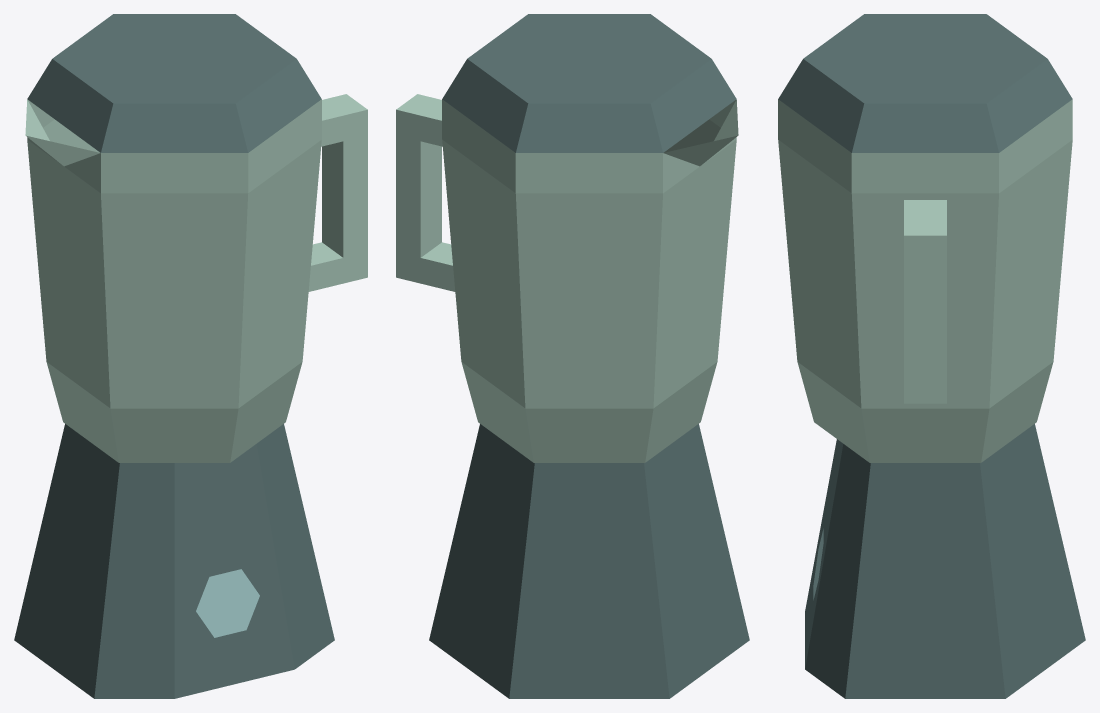
Rendered from kitchenBlender.glb.
3 renders of one model, left to right at view 1: azimuth 30°, elevation 25°; view 2: azimuth 150°, elevation 25°; view 3: azimuth 270°, elevation 25°, orthographic.
Visible parts, largest first — view 1: blenderCup, kitchenBlender, blenderTop; view 2: blenderCup, kitchenBlender, blenderTop; view 3: blenderCup, kitchenBlender, blenderTop.
Boxes of the visible parts, x1,y1,x2,y2 form: blenderCup: (25,94,367,462); kitchenBlender: (14,424,334,698); blenderTop: (27,14,321,152); blenderCup: (396,94,738,462); kitchenBlender: (429,424,749,698); blenderTop: (442,14,736,152); blenderCup: (778,99,1072,462); kitchenBlender: (805,424,1085,698); blenderTop: (778,14,1072,152).
Size of the model in its own units: 0.2445 by 0.4095 by 0.1964.
